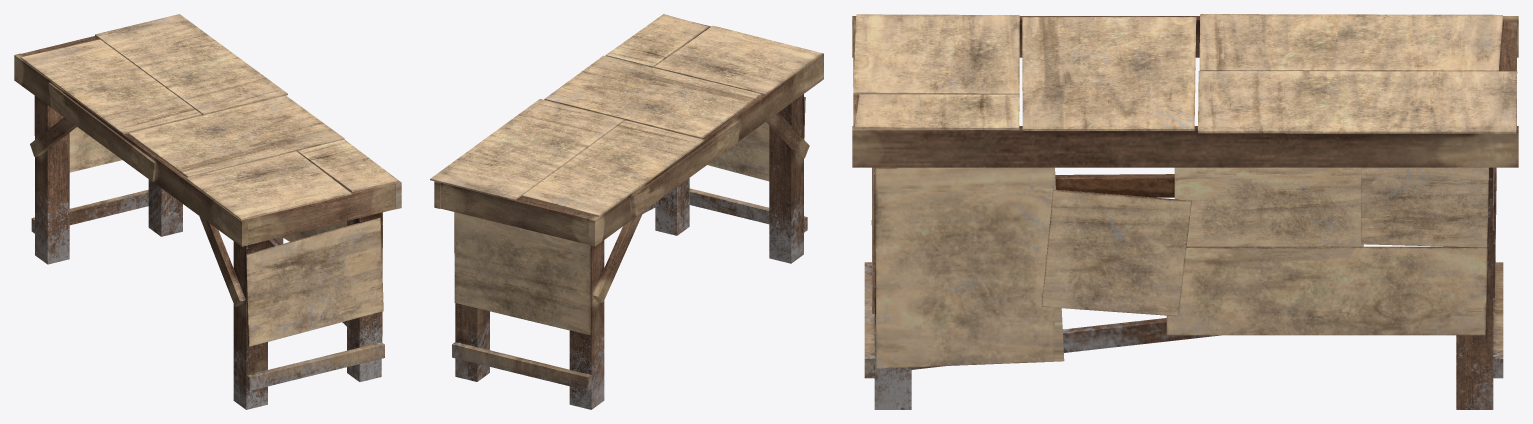
File: wooden_table.glb
The picture shows the model from 3 angles, left to right: view 1: azimuth 30°, elevation 25°; view 2: azimuth 150°, elevation 25°; view 3: azimuth 270°, elevation 25°; orthographic projection. The views are drawn at different scales.
Parts seen in each view (by area): view 1: Wooden_table_1_Material #35_0; view 2: Wooden_table_1_Material #35_0; view 3: Wooden_table_1_Material #35_0.
Boxes of the visible parts, left/top/right/bottom form: Wooden_table_1_Material #35_0: left=14, top=14, right=401, bottom=409; Wooden_table_1_Material #35_0: left=430, top=14, right=823, bottom=409; Wooden_table_1_Material #35_0: left=852, top=14, right=1518, bottom=409.
Size of the model in its own units: 199 by 226 by 470.
Materials: 1 (1 with a texture image).
